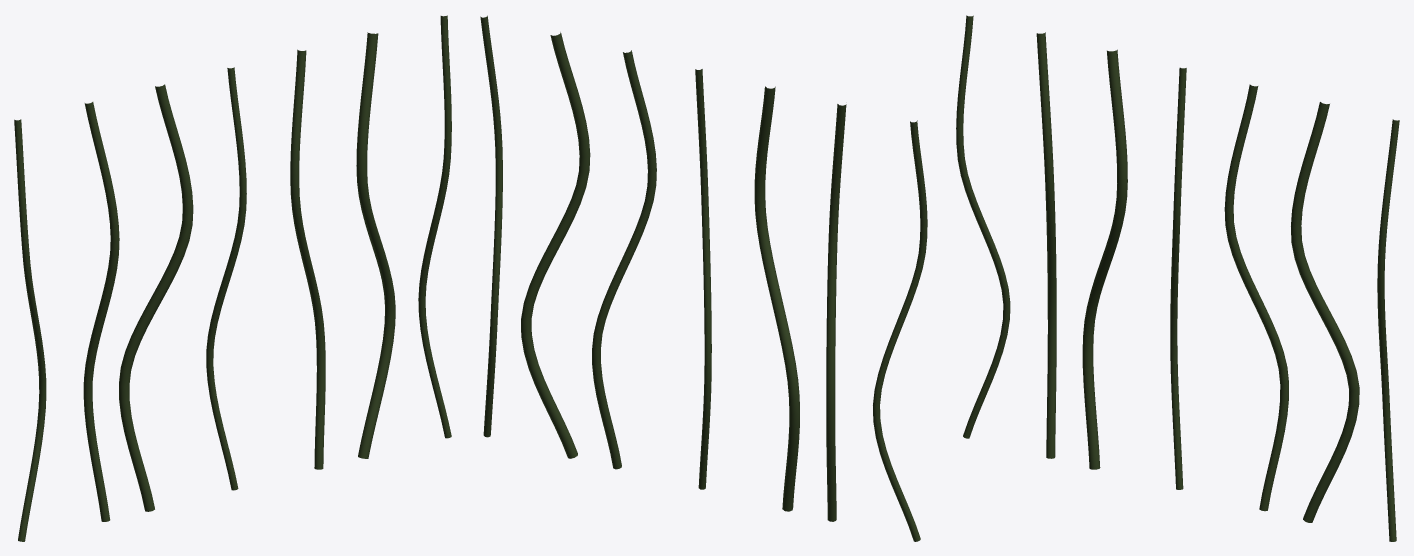
Rendered from vines.glb.
3 renders of one model, left to right at view 1: azimuth 30°, elevation 25°; view 2: azimuth 150°, elevation 25°; view 3: azimuth 330°, elevation 25°, orthographic.
Visible parts, largest first — view 1: hanging-vines; view 2: hanging-vines; view 3: hanging-vines.
Part boxes in pixels (x1,y1,x2,y2): hanging-vines: (14, 15, 451, 541); hanging-vines: (480, 15, 927, 541); hanging-vines: (956, 15, 1399, 541).
Size of the model in its own units: 3.37 by 3.12 by 0.274.
